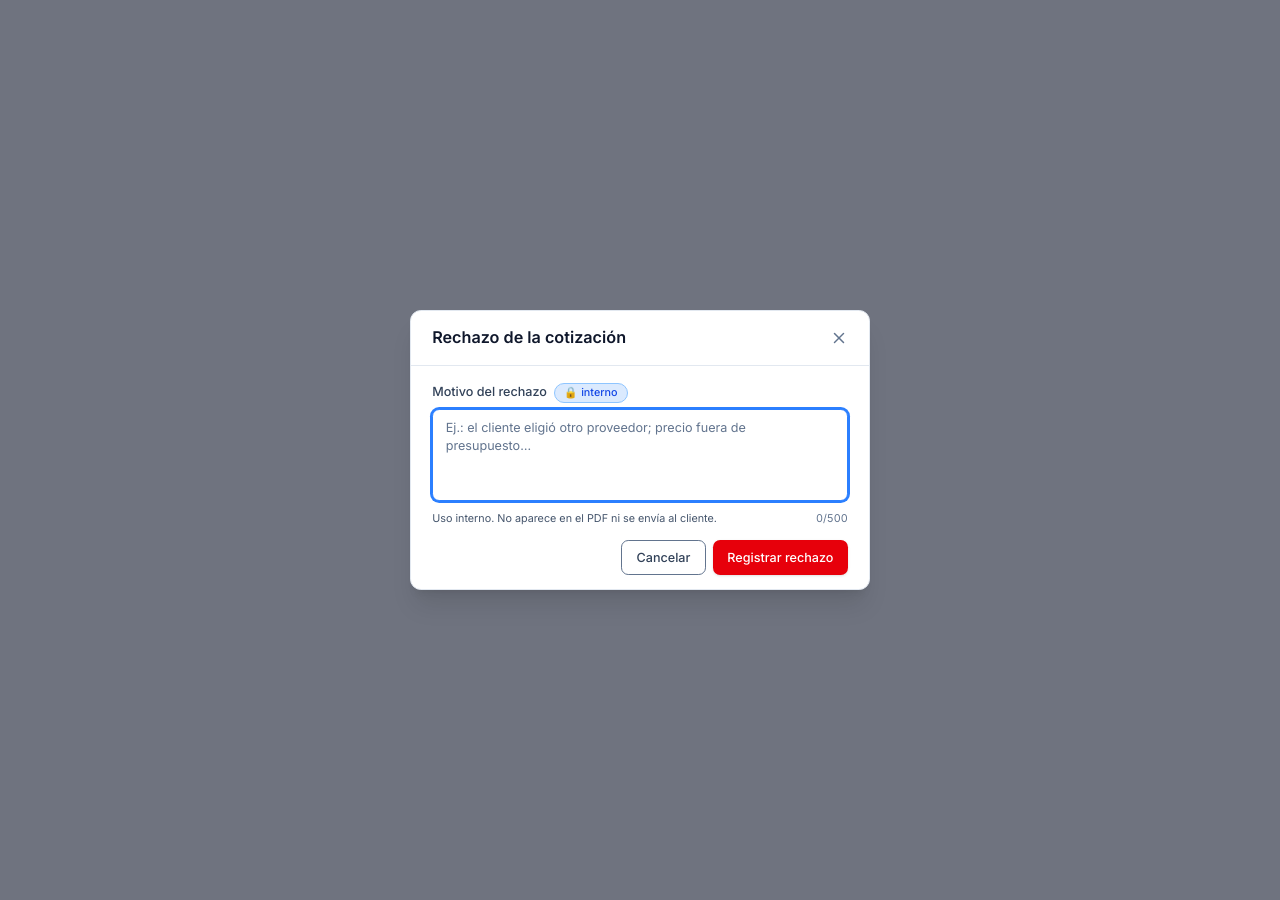
Test: RejectQuotationModal › 400 SIN errors[] (COM-001 a secas) → detail inline en el textarea, no toast
Type "algo" into the text box labelled "Motivo del rechazo" at (640, 455), box x1=432 y1=409 x2=848 y2=501
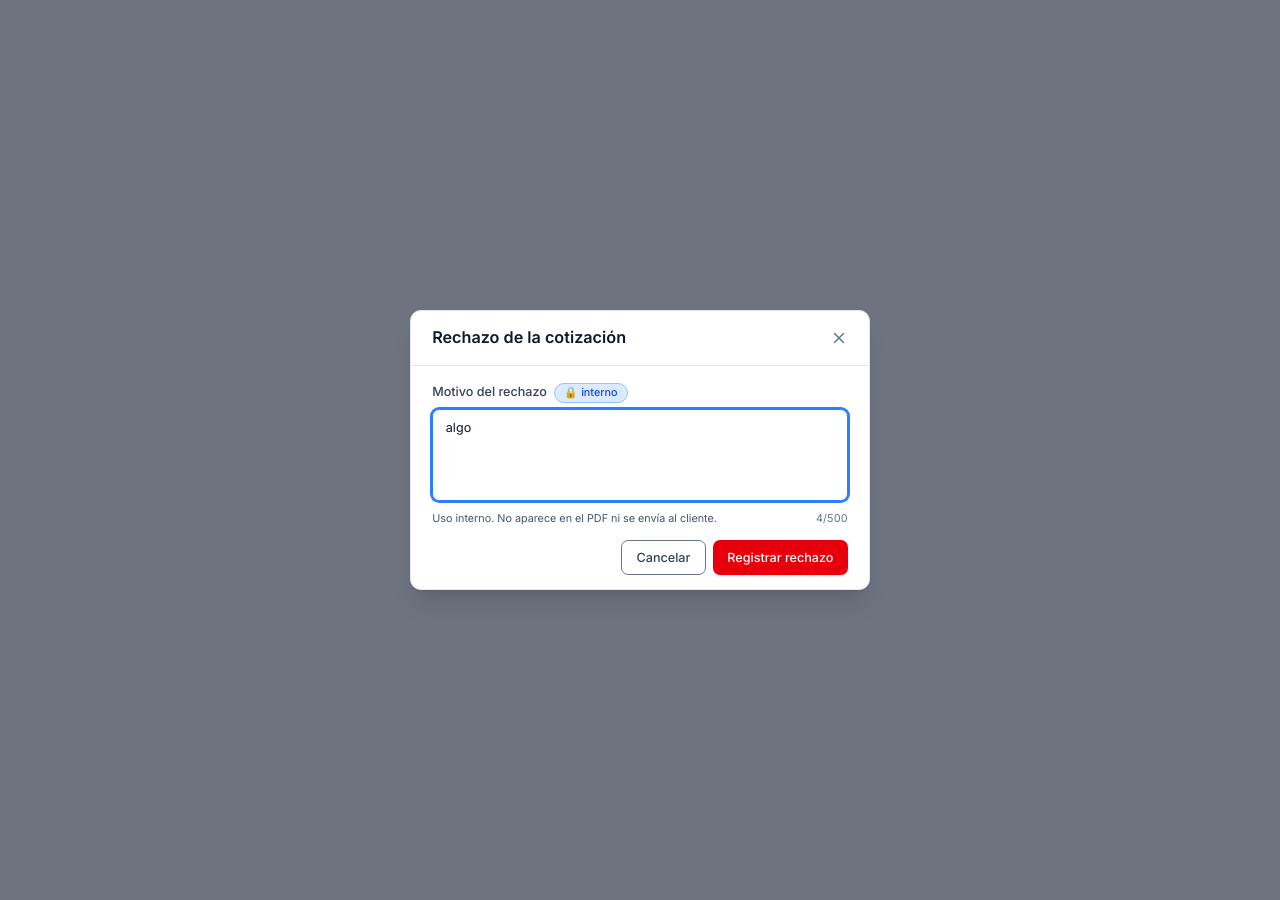
Click the button "Registrar rechazo" at (780, 558), box x1=713 y1=540 x2=848 y2=575
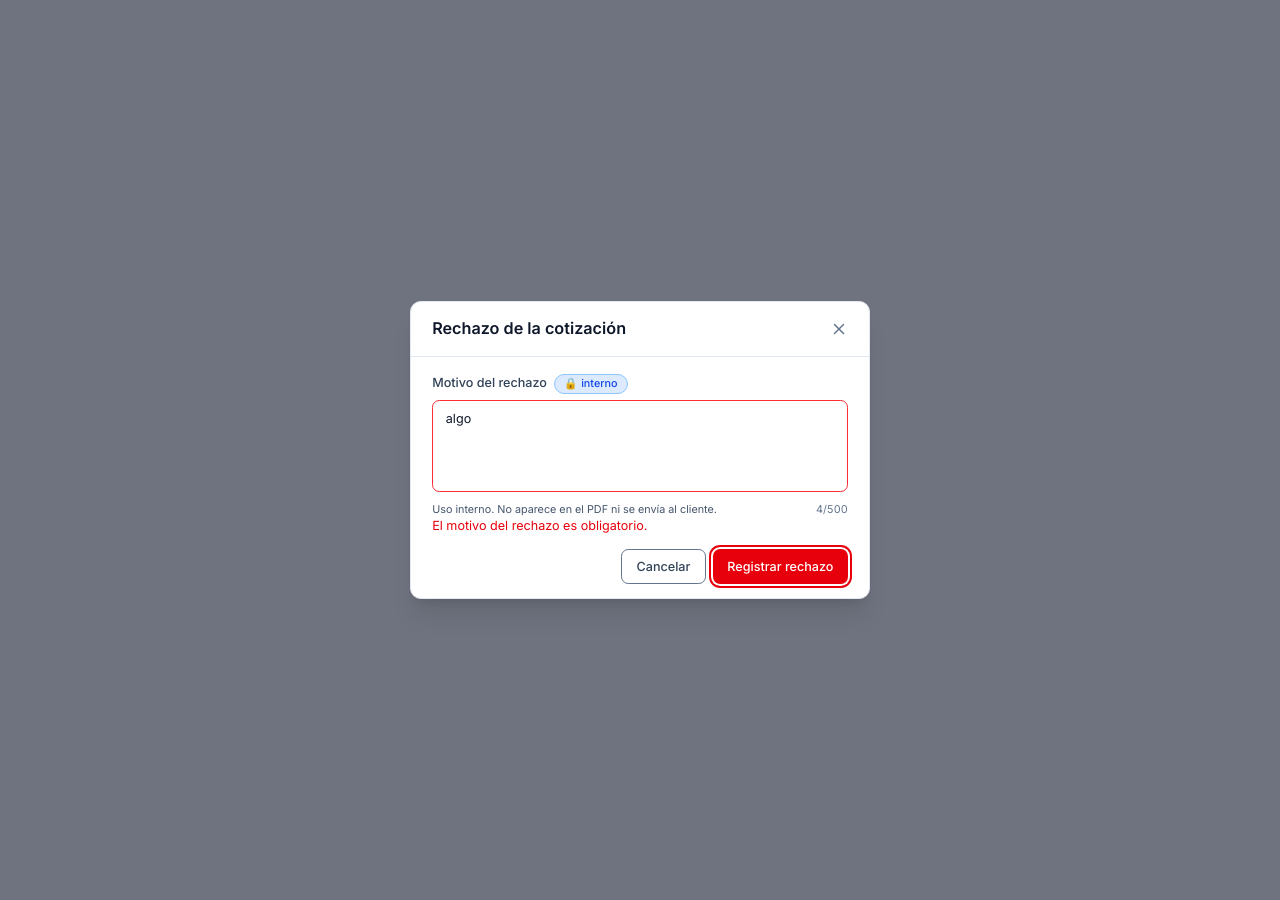
Now the message reads "El motivo del rechazo es obligatorio.", box x1=432 y1=518 x2=648 y2=533
